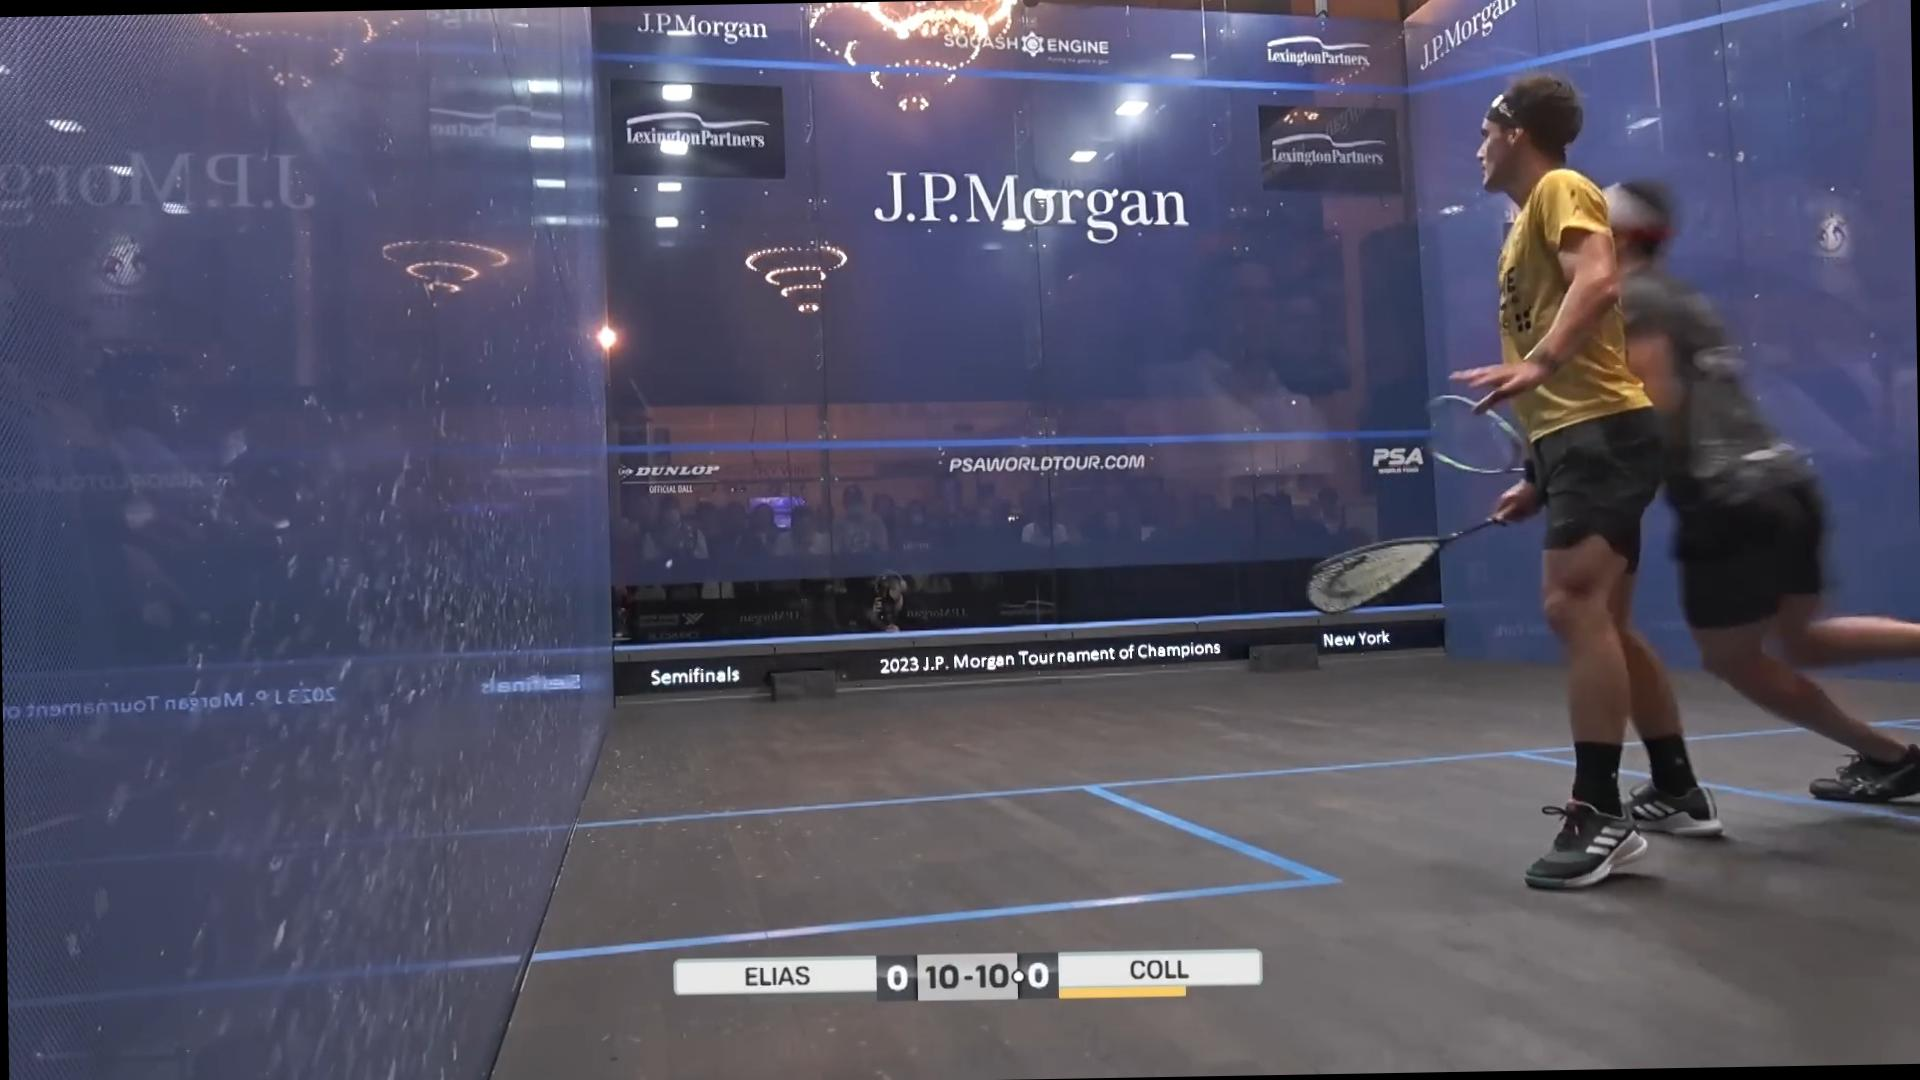Racket: (1300, 505, 1501, 626), (1407, 380, 1527, 472)
